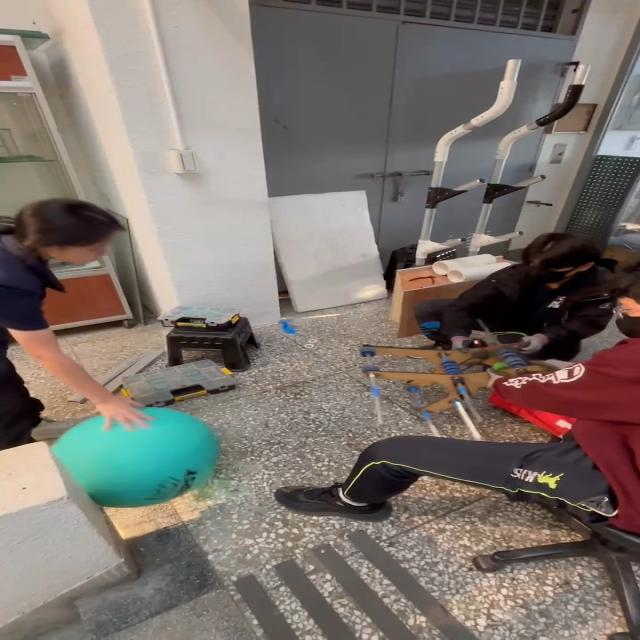ALGAE: (48, 406, 221, 508)
